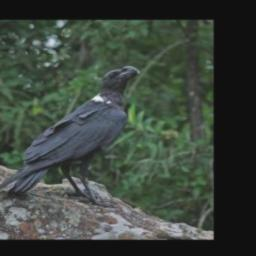Crow: (0, 64, 143, 208)
